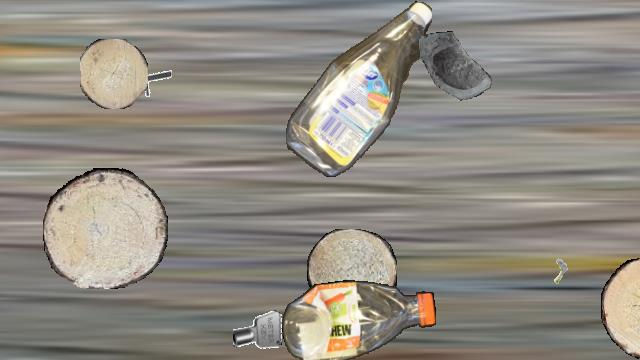glass: (419, 31, 501, 113)
metal: (233, 306, 283, 356), (538, 255, 578, 295), (134, 61, 172, 99)
plastic: (286, 1, 432, 177), (282, 279, 436, 359)
wood: (43, 168, 167, 288), (307, 229, 397, 313), (80, 39, 148, 109), (601, 257, 640, 359)
